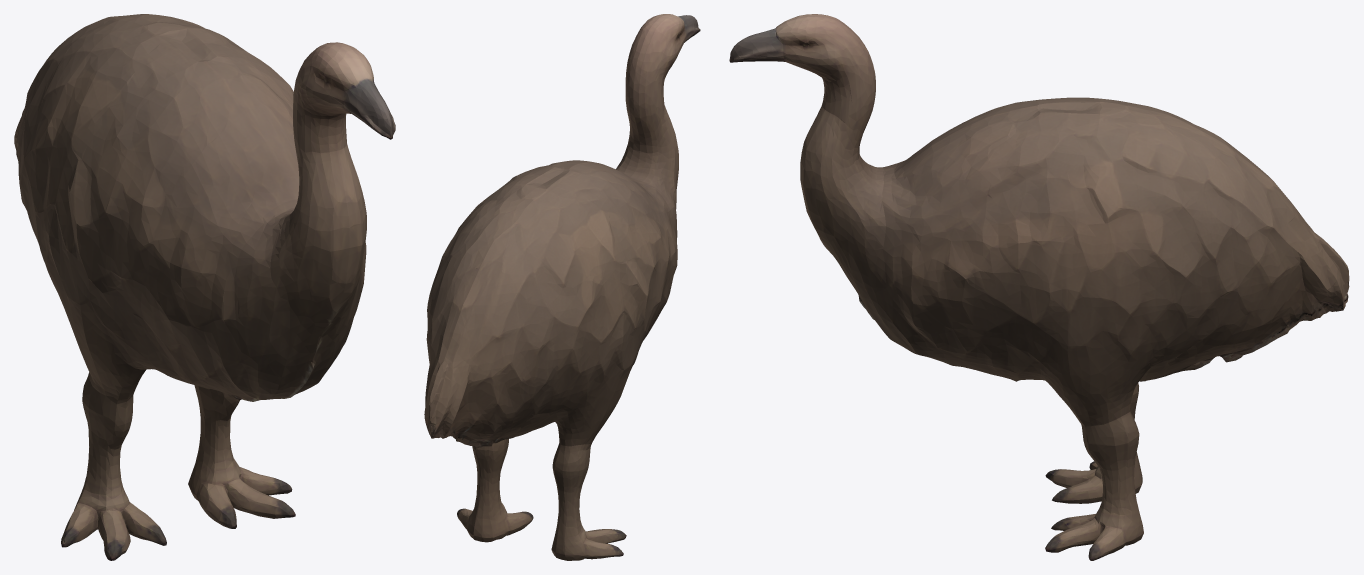
The picture shows the model from 3 angles, left to right: view 1: azimuth 30°, elevation 25°; view 2: azimuth 150°, elevation 25°; view 3: azimuth 270°, elevation 25°; orthographic projection. The views are drawn at different scales.
Parts seen in each view (by area): view 1: world; view 2: world; view 3: world.
Boxes of the visible parts, x1,y1,x2,y2 form: world: (14,14,395,560); world: (424,14,700,560); world: (729,14,1349,560).
Bounding box in the file's own units: 1.15 × 2.7 × 3.03.
Materials: 1 (1 with a texture image).
